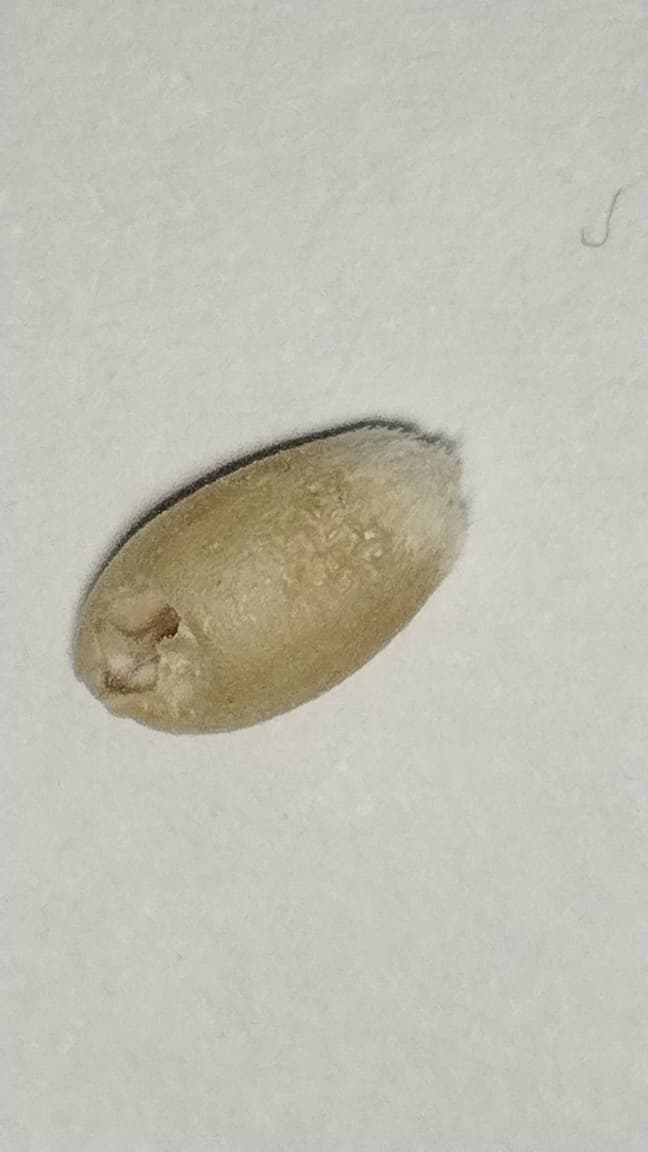damage: (72, 421, 469, 733)
insectdamage: (65, 580, 229, 711)
